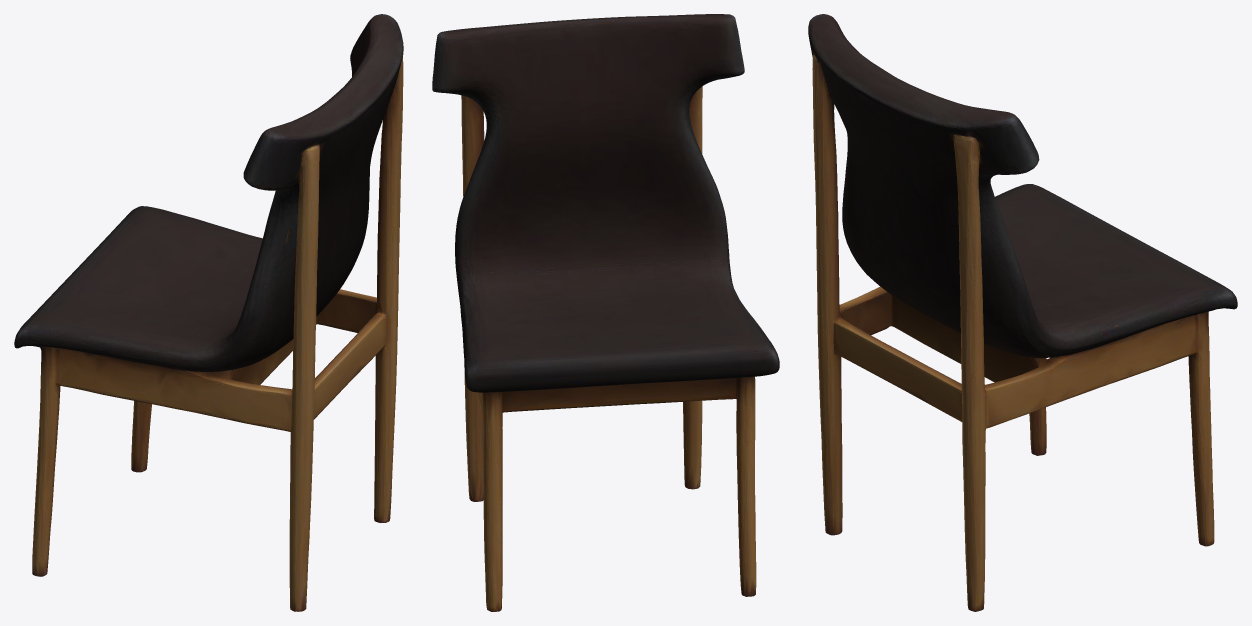
The model's file is dark_brown_leather_chair_in_the_back_000.glb.
3 renders of one model, left to right at view 1: azimuth 30°, elevation 25°; view 2: azimuth 150°, elevation 25°; view 3: azimuth 270°, elevation 25°, orthographic. The views are drawn at different scales.
Parts seen in each view (by area): view 1: phase2_final_dark_brown_leather_chair_in_the_back_000.obj; view 2: phase2_final_dark_brown_leather_chair_in_the_back_000.obj; view 3: phase2_final_dark_brown_leather_chair_in_the_back_000.obj.
Part boxes in pixels (box(x1,y1,x2,y2)): phase2_final_dark_brown_leather_chair_in_the_back_000.obj: box(14, 14, 403, 611); phase2_final_dark_brown_leather_chair_in_the_back_000.obj: box(432, 14, 779, 611); phase2_final_dark_brown_leather_chair_in_the_back_000.obj: box(808, 14, 1237, 611).
Size of the model in its own units: 0.5802 by 0.7428 by 0.5771.
1 material, 1 textured.
